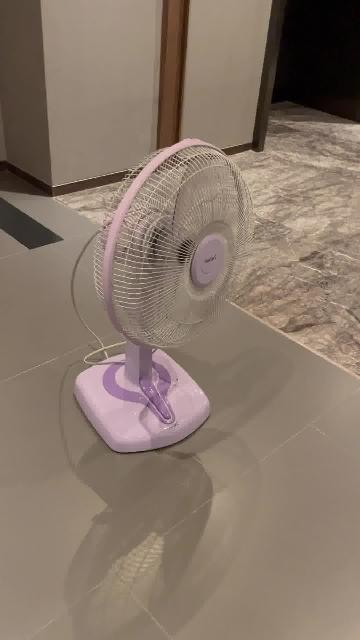Fan: (74, 139, 253, 454)
